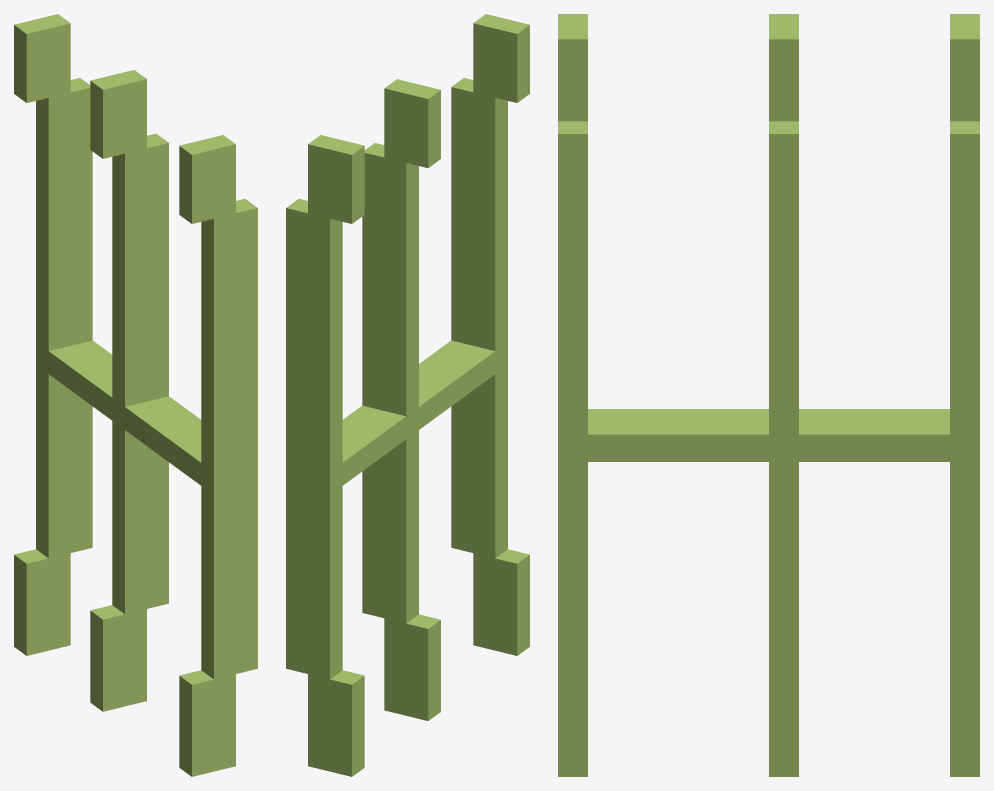
File: seam_flank_r.glb
3 renders of one model, left to right at view 1: azimuth 30°, elevation 25°; view 2: azimuth 150°, elevation 25°; view 3: azimuth 270°, elevation 25°, orthographic. The views are drawn at different scales.
Bounding box in the file's own units: 3 × 27 × 14.
